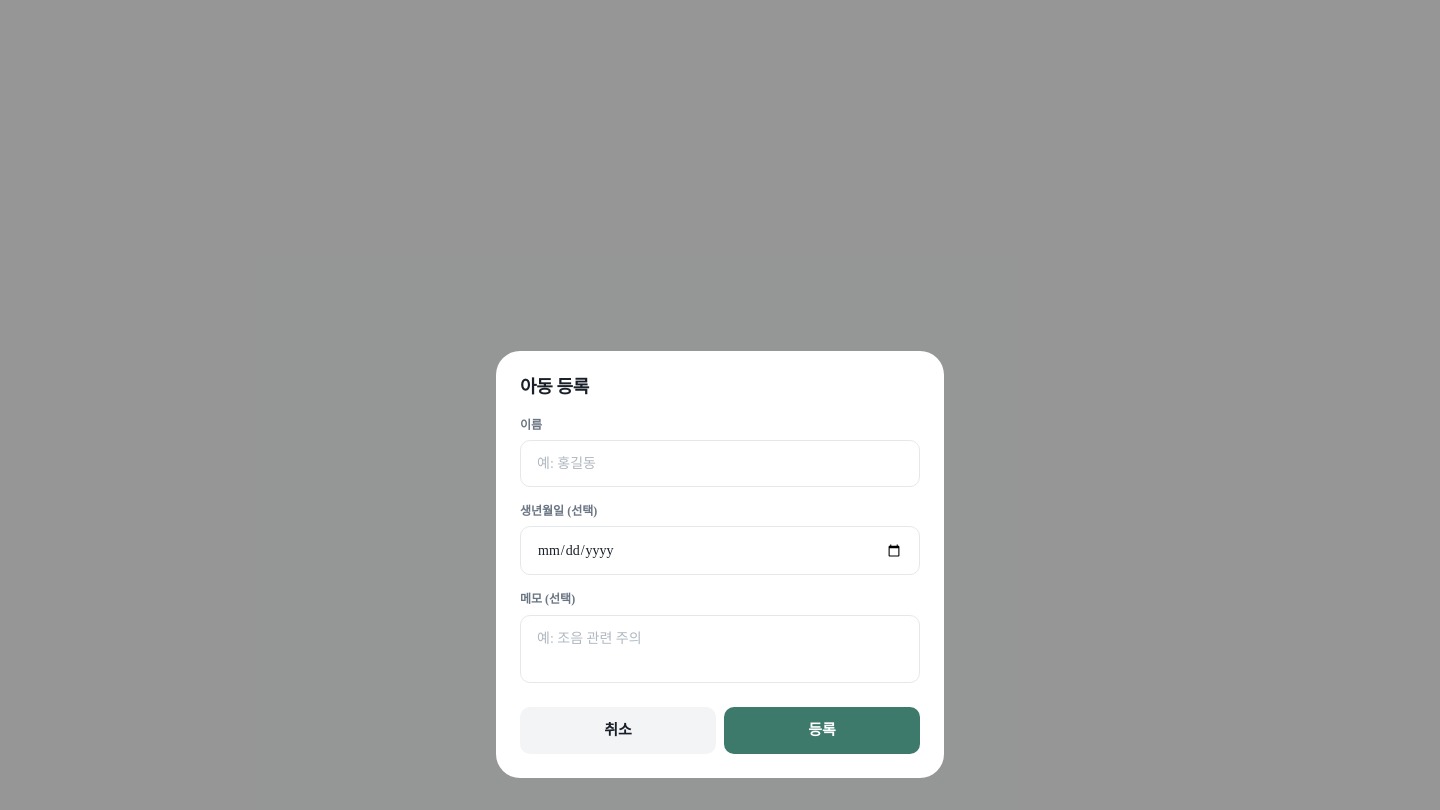
Test: CreateChildForm › 이름 없이 제출하면 검증 에러를 보여준다
Click the button "등록": (822, 730) [724,707,920,754]
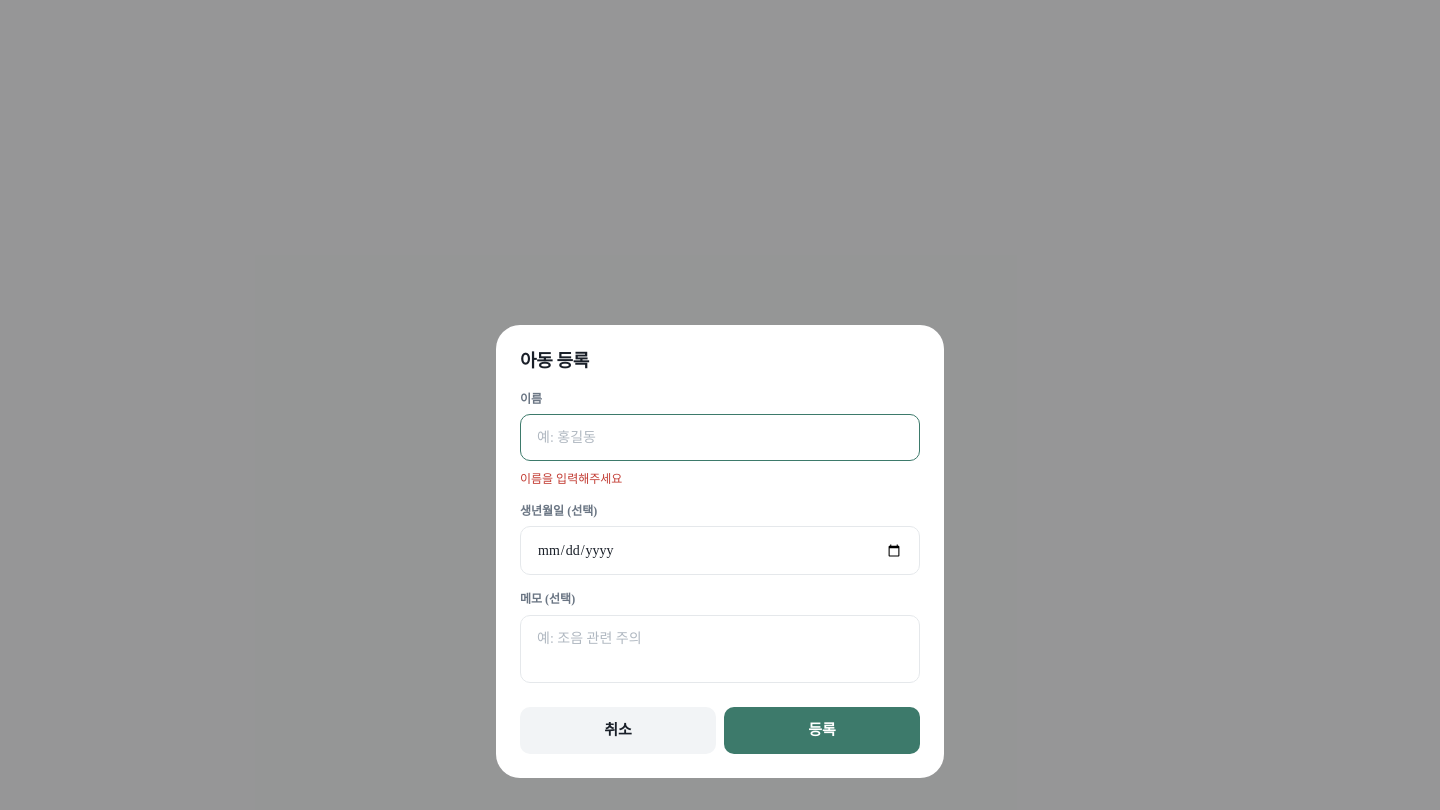
Now the text "이름을 입력해주세요" is shown, box [520,472,622,486]
